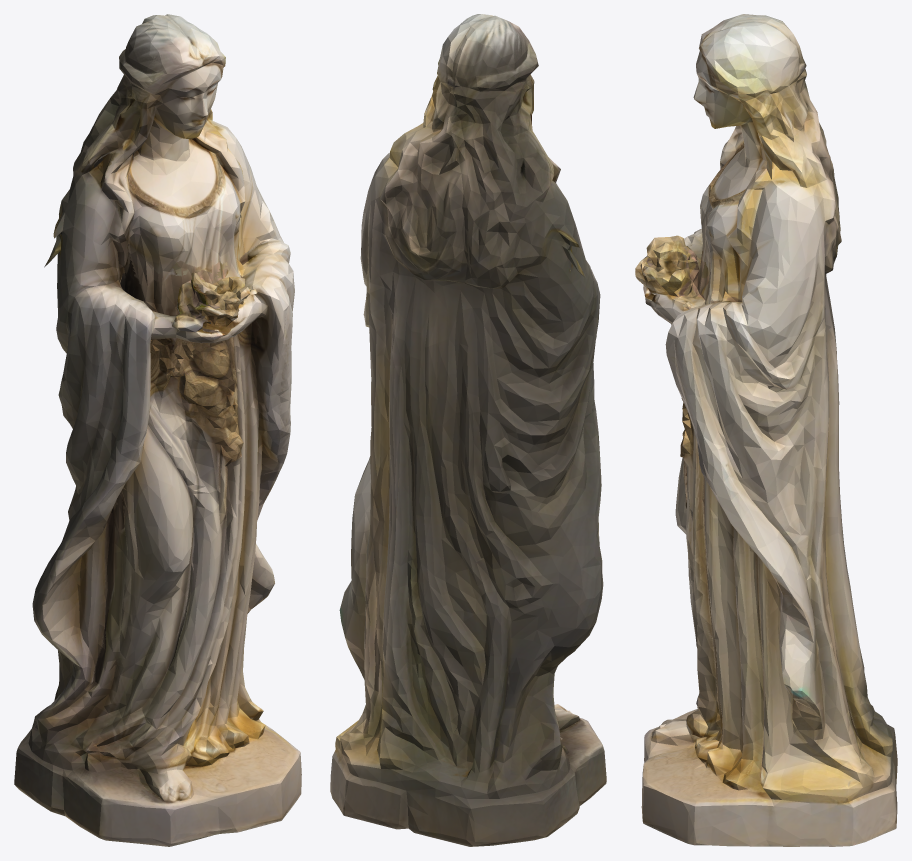
File: goddes_statue_0616162128_texture.fbx
The picture shows the model from 3 angles, left to right: view 1: azimuth 30°, elevation 25°; view 2: azimuth 150°, elevation 25°; view 3: azimuth 270°, elevation 25°; orthographic projection. The views are drawn at different scales.
Parts seen in each view (by area): view 1: temp; view 2: temp; view 3: temp.
Boxes of the visible parts, x1,y1,x2,y2 form: temp: (14,14,301,846); temp: (330,14,606,846); temp: (635,14,897,846).
Bounding box in the file's own units: 67.34 × 200 × 61.21.
Materials: 1 (1 with a texture image).
